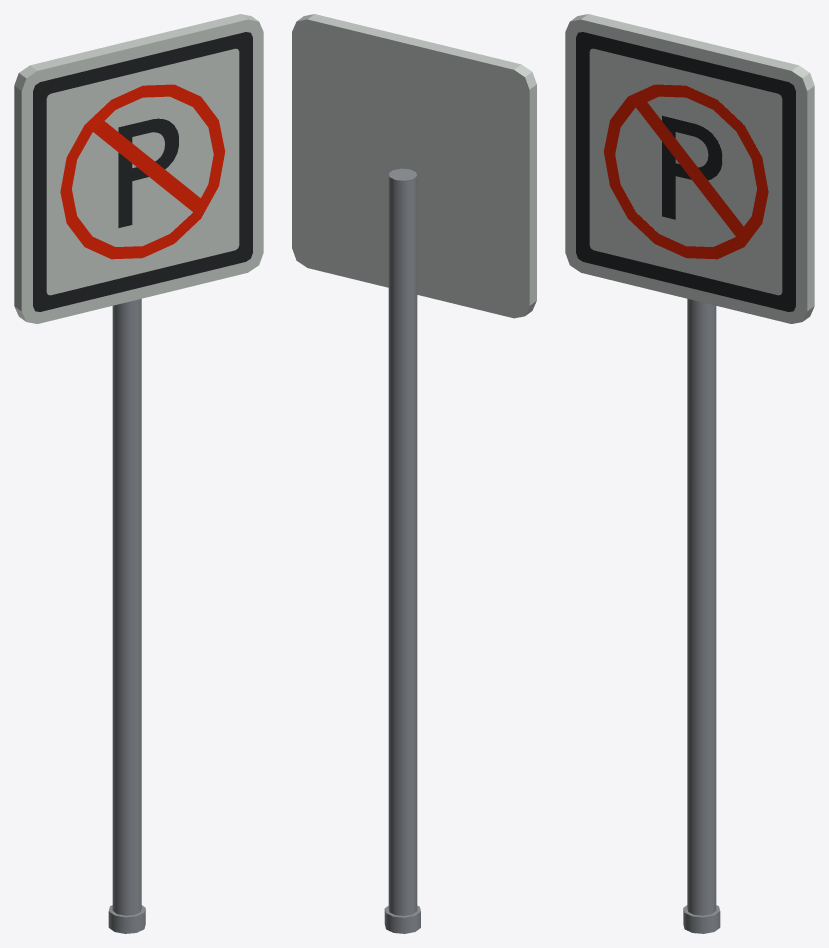
The model's file is Road Sign_5.fbx.
3 renders of one model, left to right at view 1: azimuth 30°, elevation 25°; view 2: azimuth 150°, elevation 25°; view 3: azimuth 330°, elevation 25°, orthographic.
Parts seen in each view (by area): view 1: Road Sign_5; view 2: Road Sign_5; view 3: Road Sign_5.
Part boxes in pixels (left/top/right/bottom): Road Sign_5: left=14, top=14, right=263, bottom=933; Road Sign_5: left=292, top=14, right=536, bottom=933; Road Sign_5: left=565, top=14, right=814, bottom=933.
Size of the model in its own units: 65.88 by 232 by 11.95.
